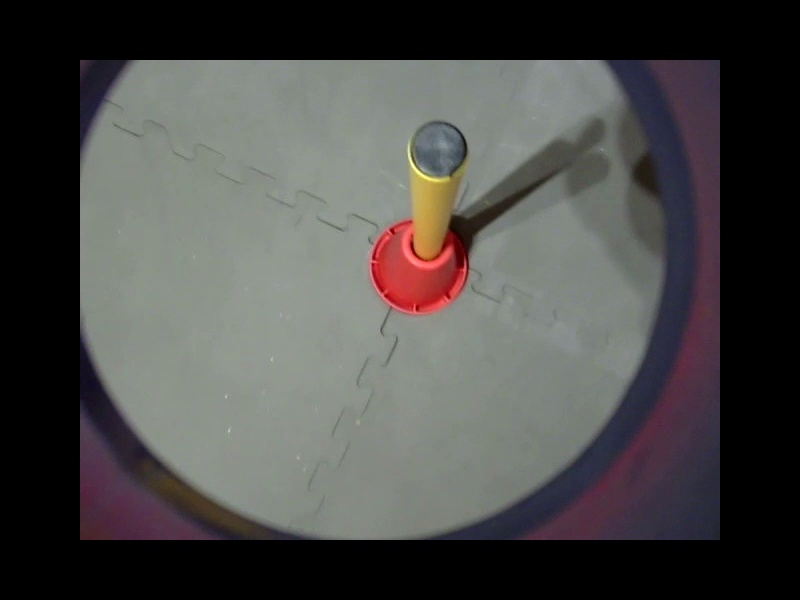tip: (401, 118, 474, 188)
